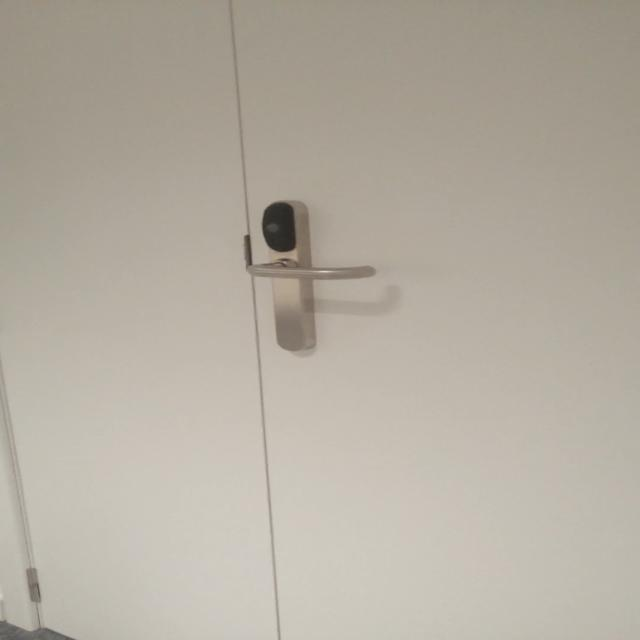door_handle: (237, 256, 385, 287)
